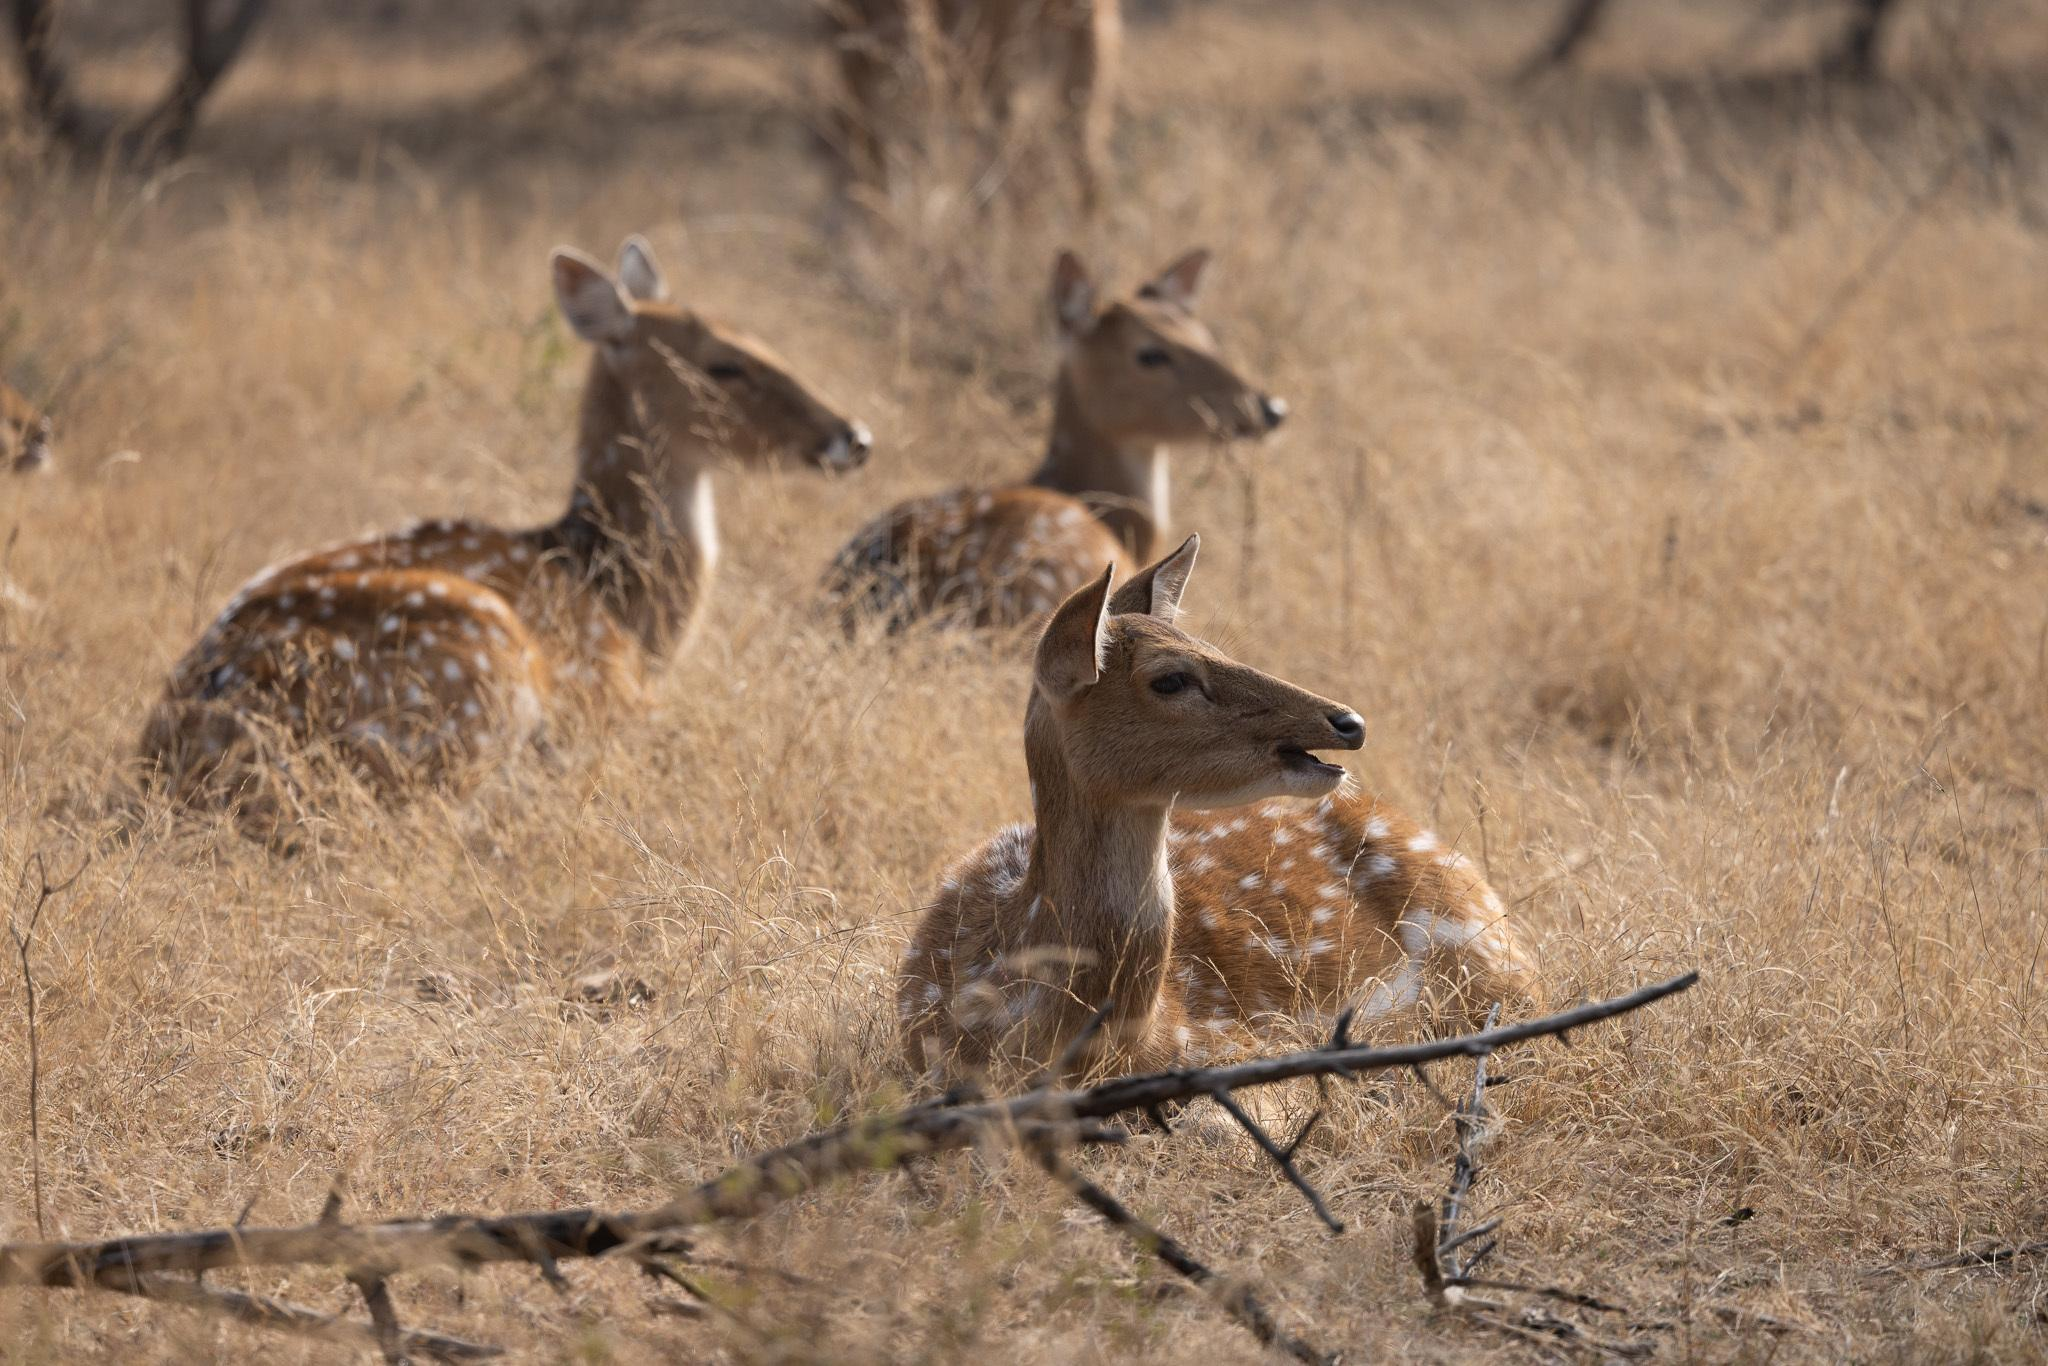Deer: (142, 236, 869, 854), (898, 537, 1534, 1082), (821, 249, 1288, 633)
